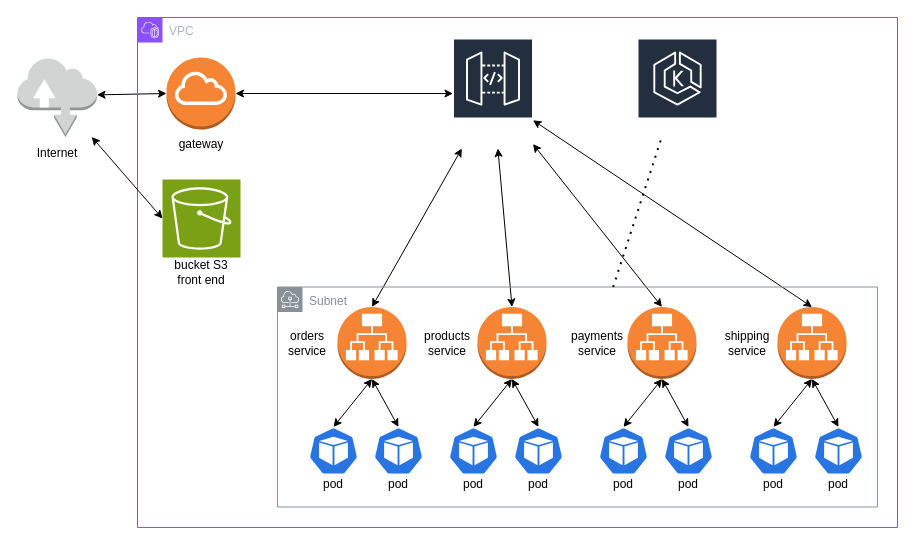
This 915x545 diagram has some shape labels left out. Here are the shapes that lost their labels. From the top down, the centre of each, then its label:
At (x=492, y=93): "Amazon API Gateway".
At (x=677, y=88): "Amazon EKS".
